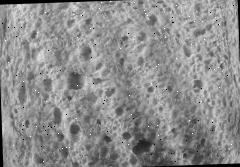organic: (8, 1, 218, 166)
